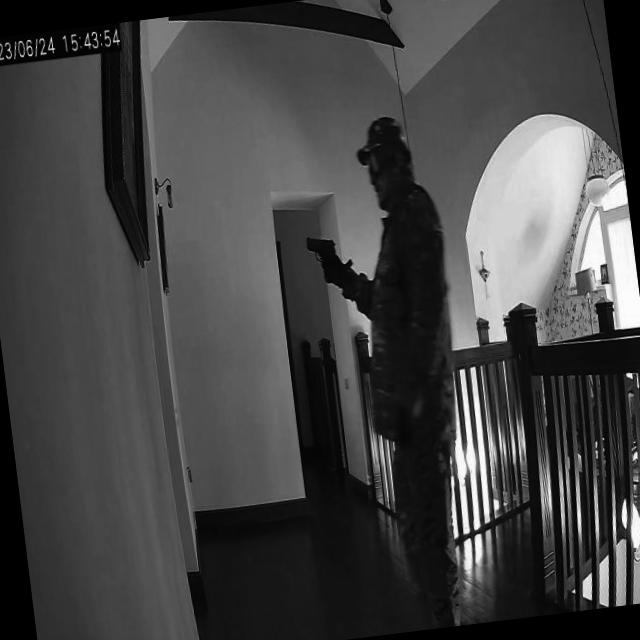gun: (304, 230, 338, 278)
person with a gun: (331, 110, 486, 633)
